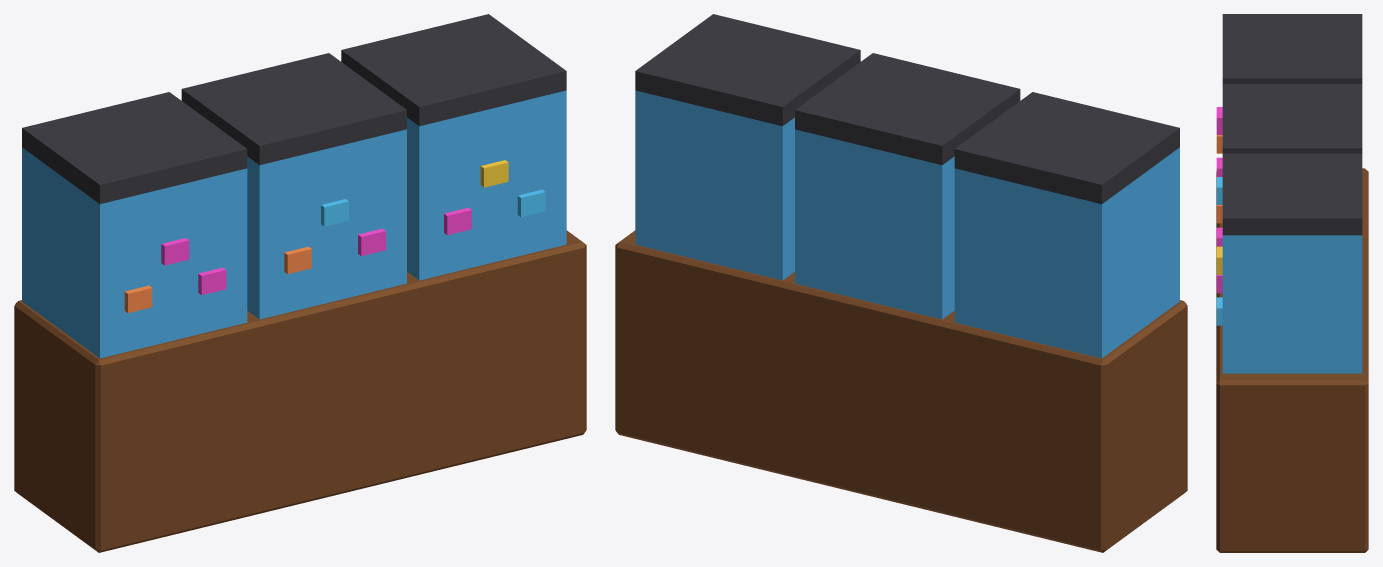
Rendered from FishTankRow.fbx.
3 renders of one model, left to right at view 1: azimuth 30°, elevation 25°; view 2: azimuth 150°, elevation 25°; view 3: azimuth 270°, elevation 25°, orthographic. The views are drawn at different scales.
Parts seen in each view (by area): view 1: FishTankRow; view 2: FishTankRow; view 3: FishTankRow.
Part boxes in pixels (left/top/right/bottom): FishTankRow: left=14, top=14, right=586, bottom=552; FishTankRow: left=615, top=14, right=1187, bottom=552; FishTankRow: left=1216, top=14, right=1368, bottom=552.
Bounding box in the file's own units: 8 × 5.7 × 2.4.
1 material, 1 textured.
